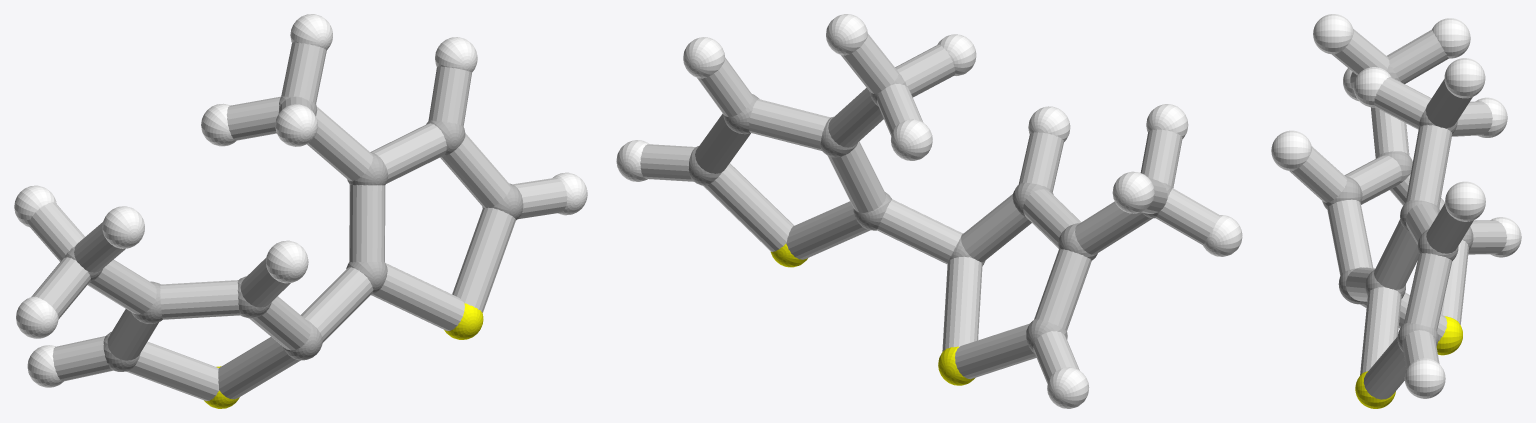
The model's file is Methylthiophene_Phi_50_Theta_130_Methylthiophene.glb.
3 renders of one model, left to right at view 1: azimuth 30°, elevation 25°; view 2: azimuth 150°, elevation 25°; view 3: azimuth 270°, elevation 25°, orthographic. The views are drawn at different scales.
Visible parts, largest first — view 1: grp7965, grp3621, grp1, grp7241; view 2: grp7965, grp3621, grp1, grp7241; view 3: grp7965, grp3621, grp1, grp7241.
Part boxes in pixels (x1,y1,x2,y2): grp7965: (28, 42, 567, 401); grp3621: (14, 14, 587, 387); grp1: (64, 96, 523, 371); grp7241: (204, 303, 483, 408); grp7965: (640, 34, 1220, 383); grp3621: (616, 14, 1242, 408); grp1: (688, 72, 1172, 352); grp7241: (770, 243, 974, 385); grp7965: (1289, 28, 1506, 399); grp3621: (1271, 14, 1521, 398); grp1: (1322, 62, 1473, 351); grp7241: (1355, 316, 1462, 408).
Size of the model in its own units: 9.68 by 5.53 by 3.67.
